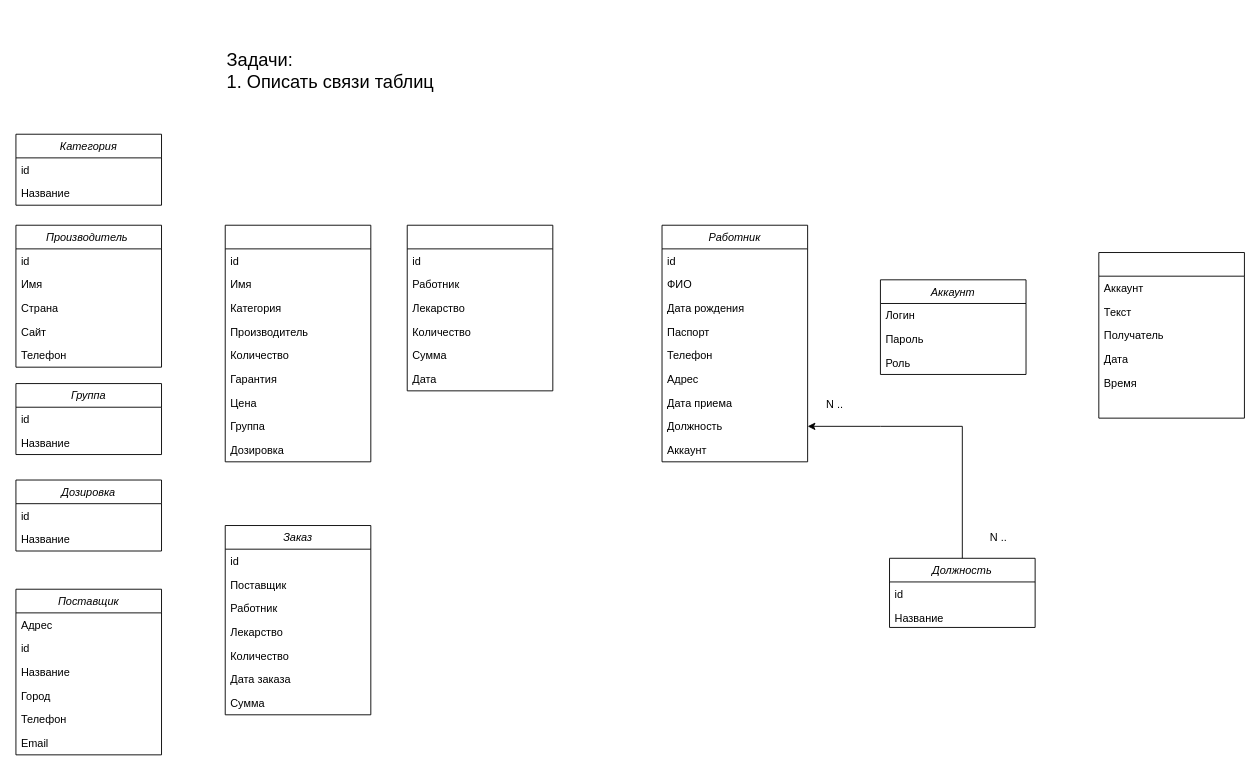
The diagram is 1260 pixels wide and 773 high, and some of its shapes have lost their labels. The box of each missing label's shape, as (x1, y1, x2, y2) in pixels:
Лекарства: (224, 224, 371, 462)
Покупка: (406, 224, 553, 391)
Сообщение: (1098, 252, 1244, 418)
